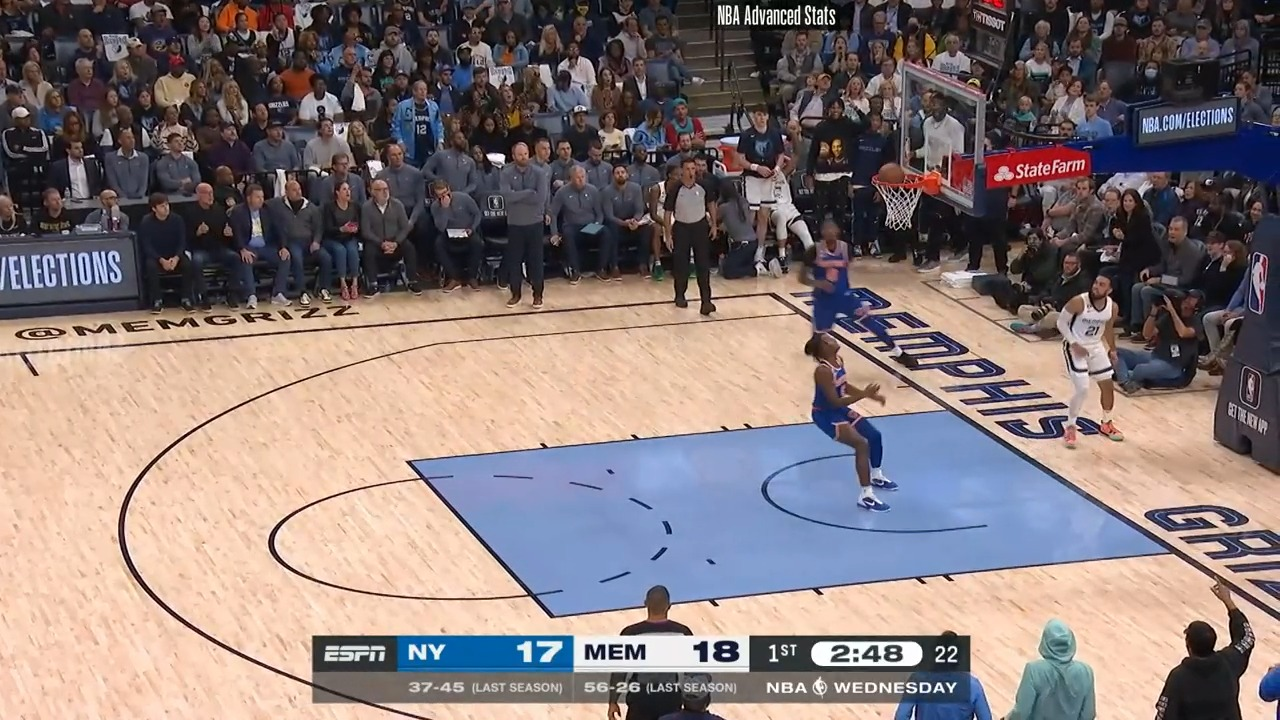net: (872, 166, 943, 233)
player: (802, 326, 896, 514), (1047, 276, 1130, 453), (794, 215, 862, 366)
referee: (665, 164, 726, 322)
